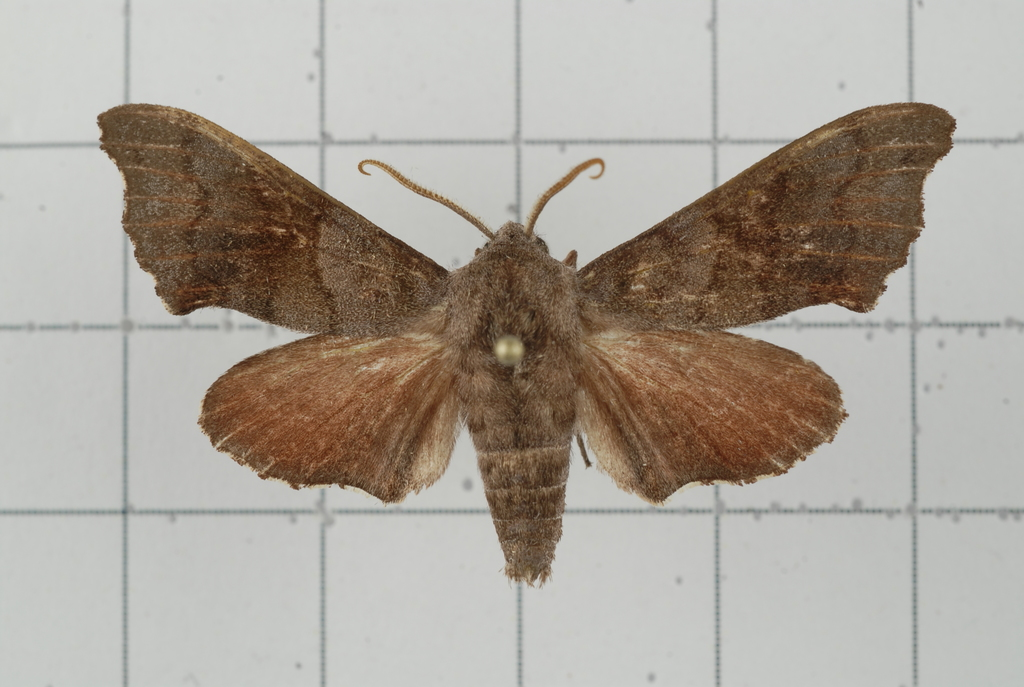Butterfly: (76, 77, 963, 598)
